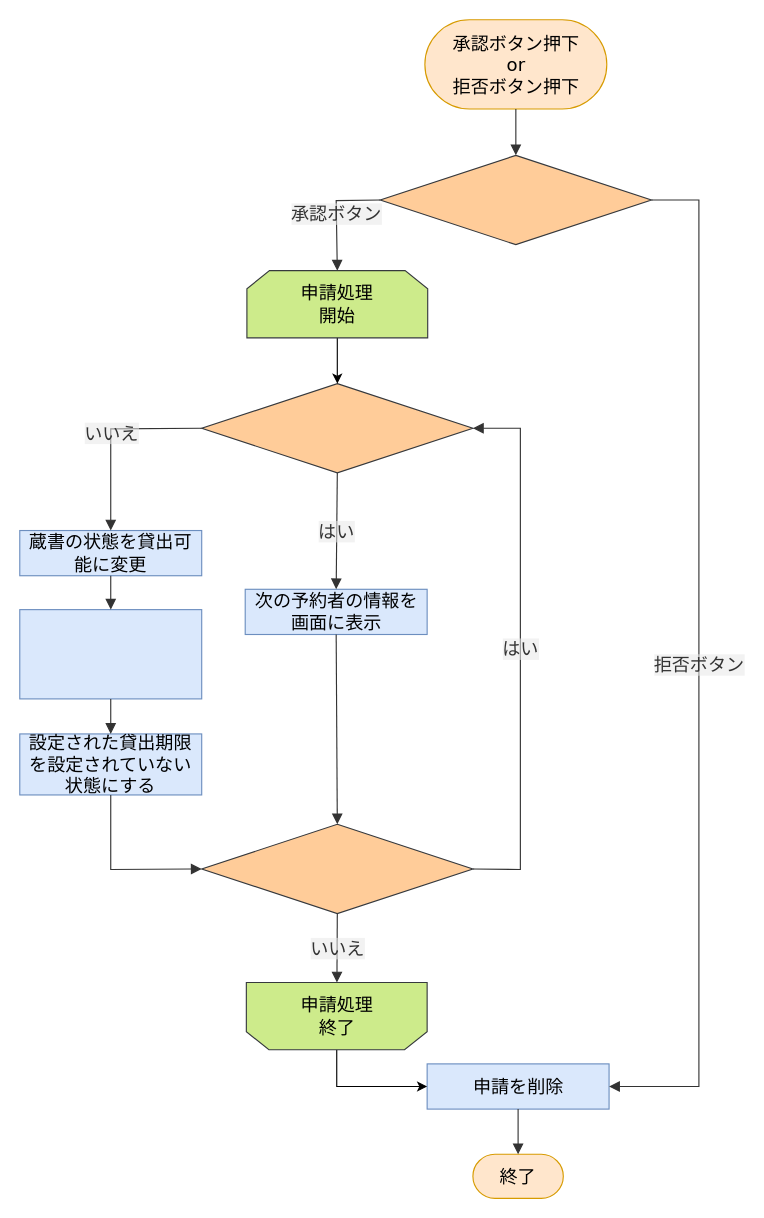
Some shapes in this 764 by 1218 pixel diagram are drawn without their labels. The box of each missing label's shape, as (x1, y1, x2, y2) in pixels:
ほかに申請された 蔵書があるか？: (201, 823, 473, 914)
承認ボタン、拒否ボタンのどちらが押されたか？: (379, 154, 651, 245)
設定された貸出者IDを設定されていない状態にする: (19, 609, 202, 699)
返却された蔵書に 次の予約者がいるか？: (201, 383, 473, 473)
